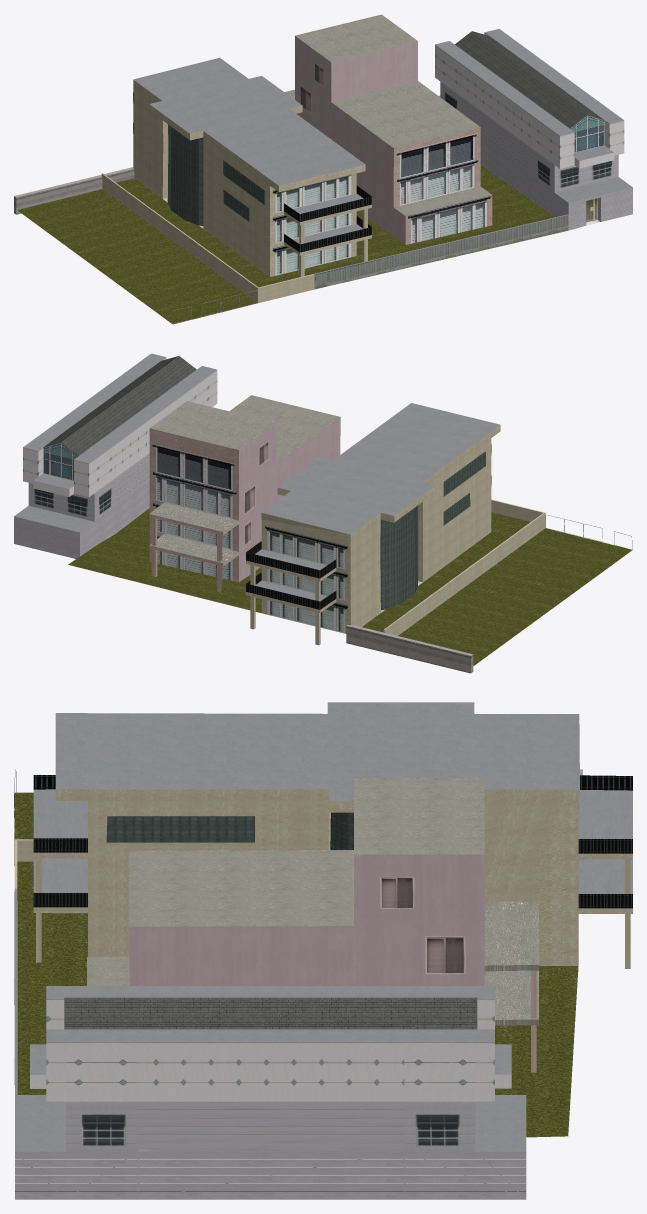
Rendered from santahousegrp_law2.obj.
3 renders of one model, top to bottom at view 1: azimuth 30°, elevation 25°; view 2: azimuth 150°, elevation 25°; view 3: azimuth 270°, elevation 25°, orthographic. The views are drawn at different scales.
Parts seen in each view (by area): view 1: santahousegrp_law2; view 2: santahousegrp_law2; view 3: santahousegrp_law2.
Part boxes in pixels (<box>): santahousegrp_law2: <box>14,14,632,324</box>; santahousegrp_law2: <box>14,353,632,673</box>; santahousegrp_law2: <box>14,702,632,1199</box>.
Size of the model in its own units: 40.28 by 11.34 by 26.11.
